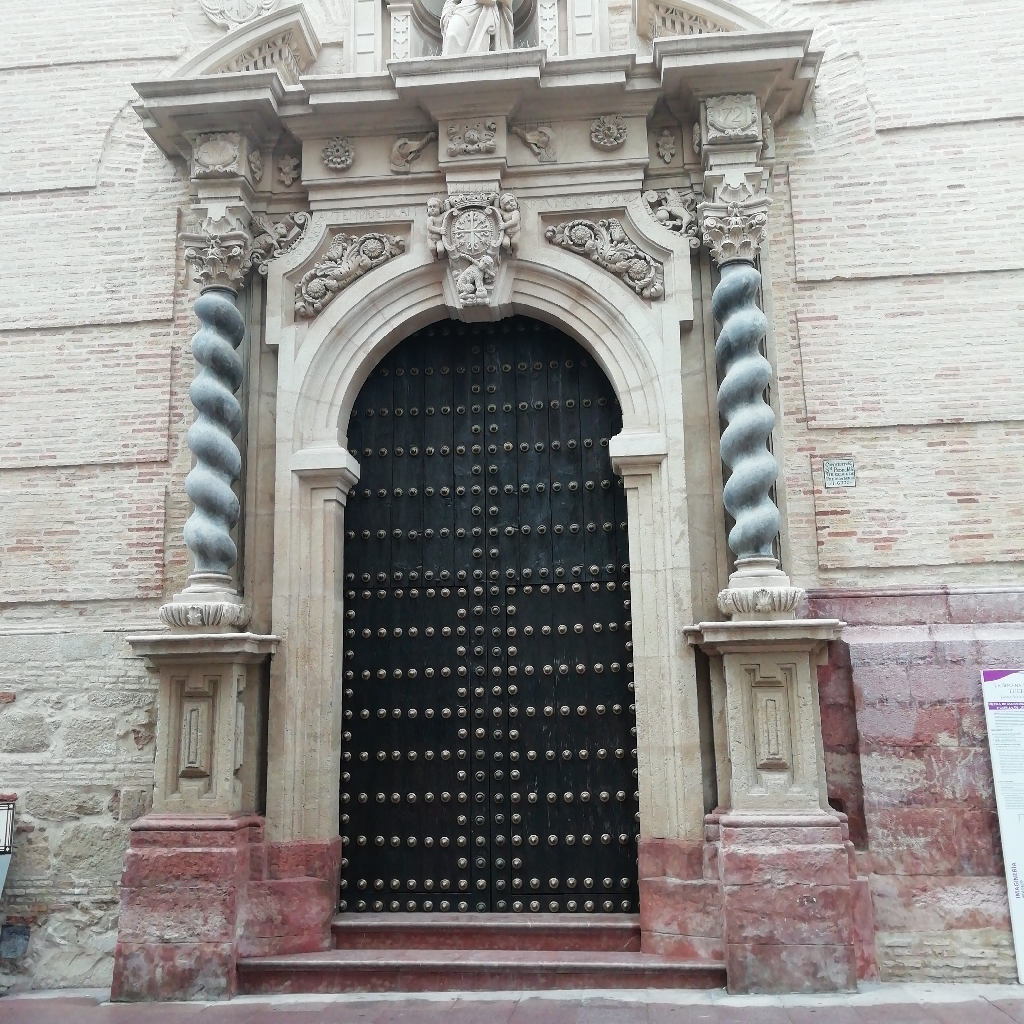arco-medio-punto: (322, 293, 647, 501)
columna-salomonica: (711, 253, 791, 572), (184, 274, 254, 584)
fronton-partido: (132, 1, 828, 129)
